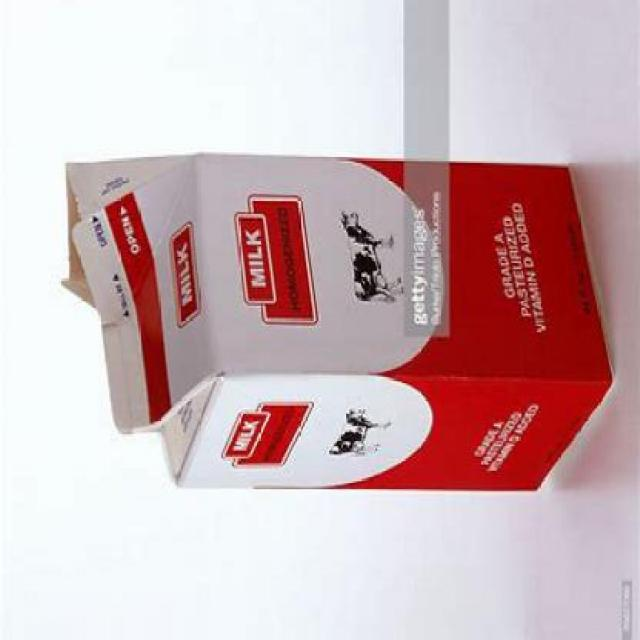non_white_jug: (60, 151, 616, 497)
